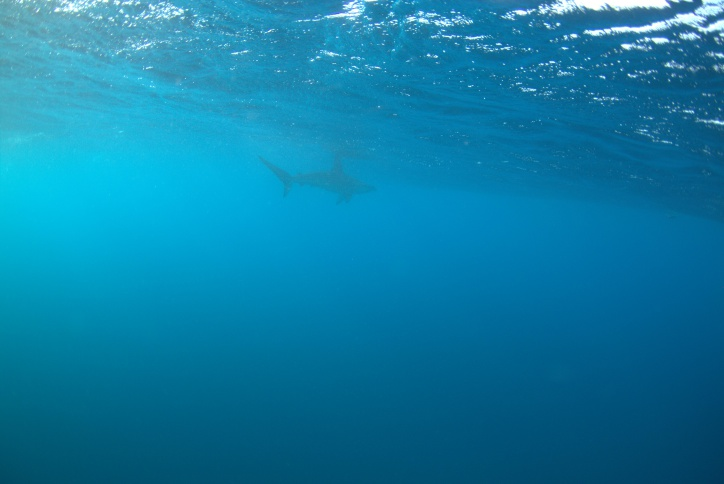Hammer: (241, 132, 425, 225)
